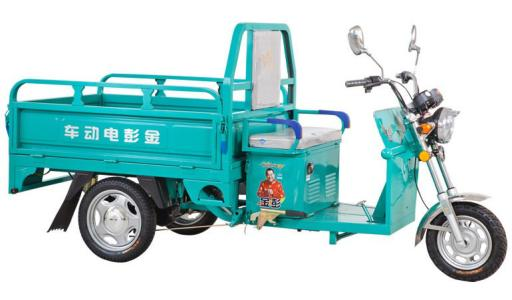tricycle: (27, 17, 503, 288)
